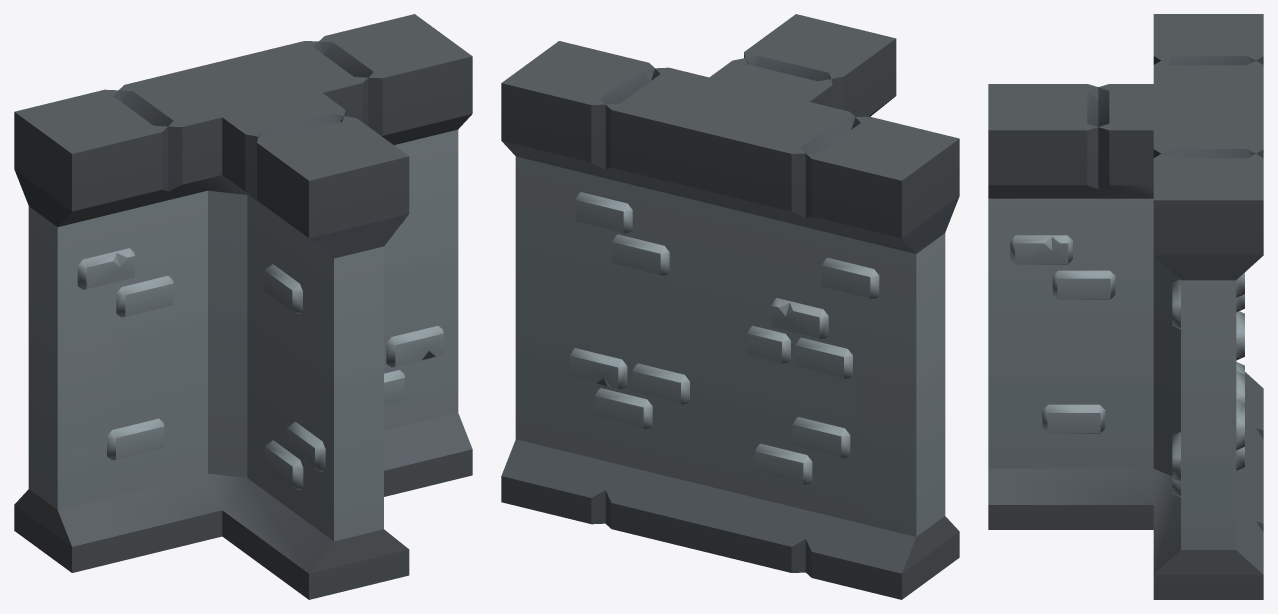
File: wall_tsplit.glb
3 renders of one model, left to right at view 1: azimuth 30°, elevation 25°; view 2: azimuth 150°, elevation 25°; view 3: azimuth 270°, elevation 25°, orthographic. The views are drawn at different scales.
Visible parts, largest first — view 1: wall_Tsplit; view 2: wall_Tsplit; view 3: wall_Tsplit.
Part boxes in pixels (x1=…): wall_Tsplit: x1=14, y1=14, x2=472, y2=599; wall_Tsplit: x1=501, y1=14, x2=959, y2=599; wall_Tsplit: x1=988, y1=14, x2=1263, y2=599.
Size of the model in its own units: 4 by 4 by 2.5.
Materials: 1 (1 with a texture image).
